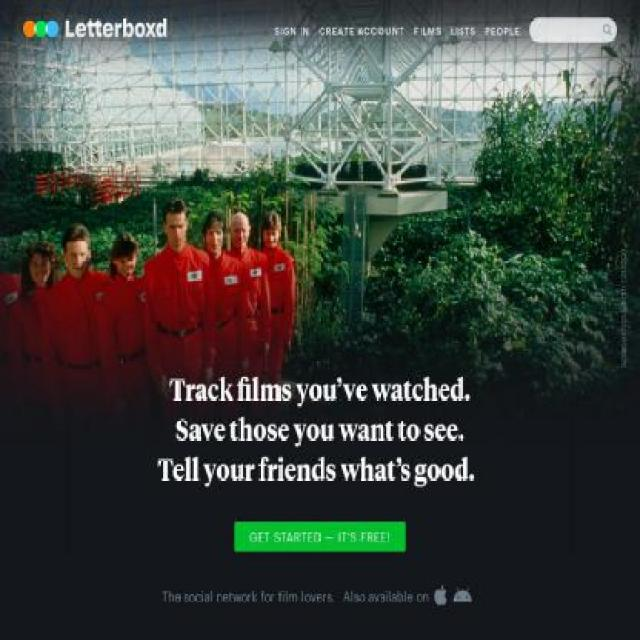button: (234, 522, 406, 552), (318, 18, 404, 38), (434, 585, 472, 607), (274, 18, 309, 38), (485, 18, 520, 38), (414, 18, 441, 38), (451, 18, 475, 38), (617, 249, 640, 266)
field: (529, 18, 617, 42), (598, 18, 617, 42)
